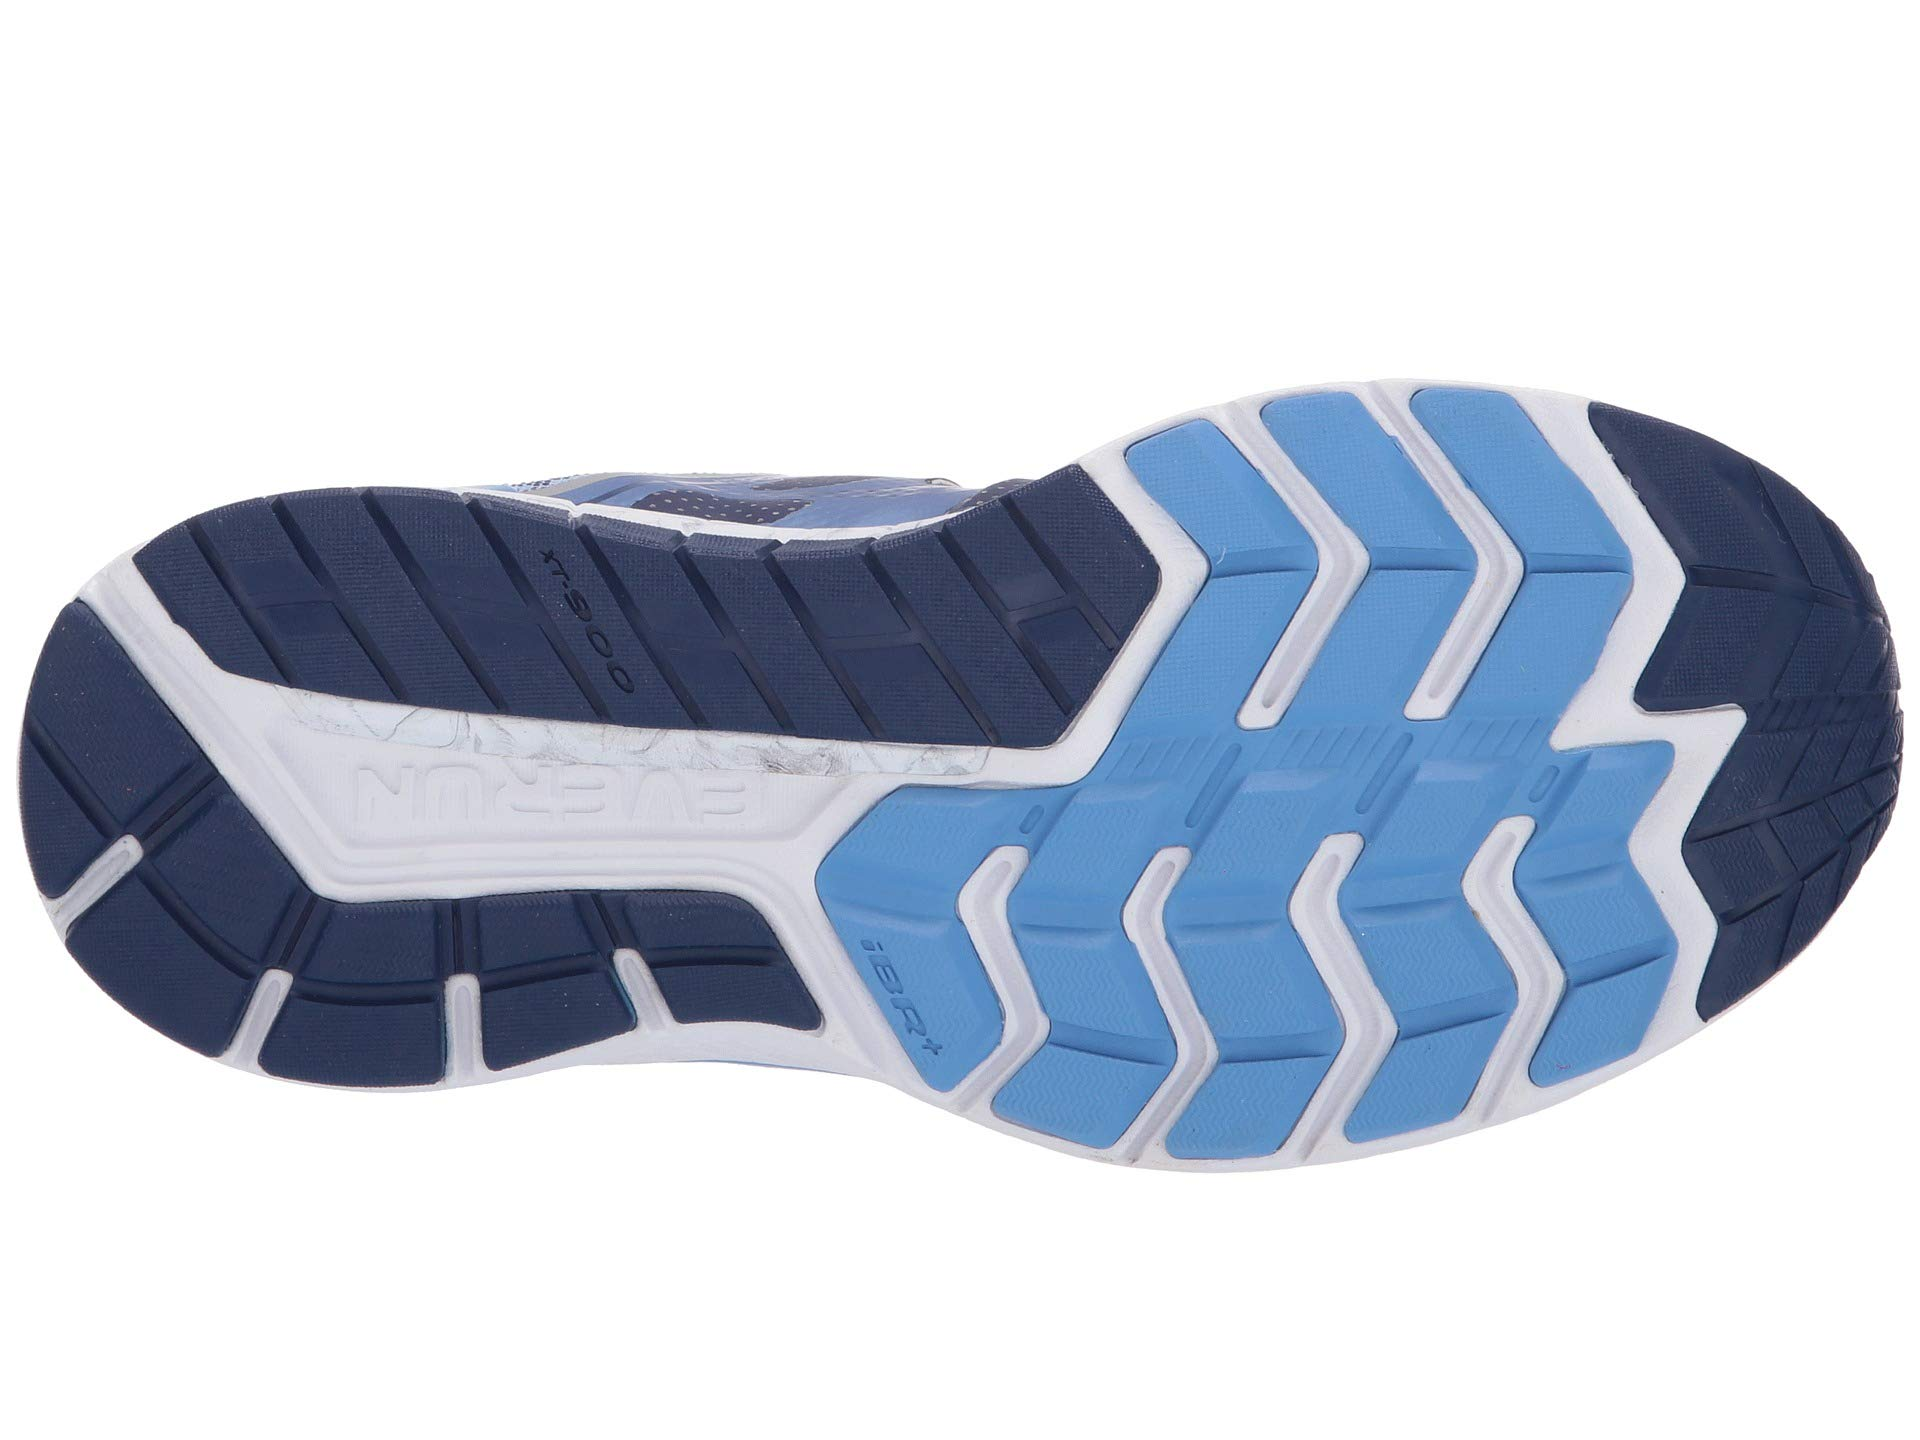chevron: (1147, 729, 1604, 1107)
quad: (1147, 729, 1604, 1107), (206, 452, 550, 784)
